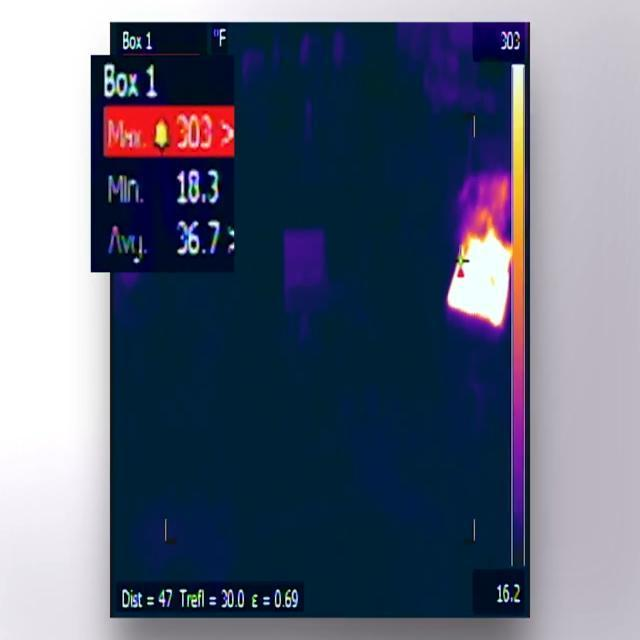fire: (446, 225, 512, 334)
